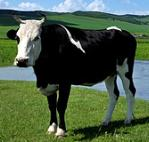cow: (6, 11, 137, 140)
